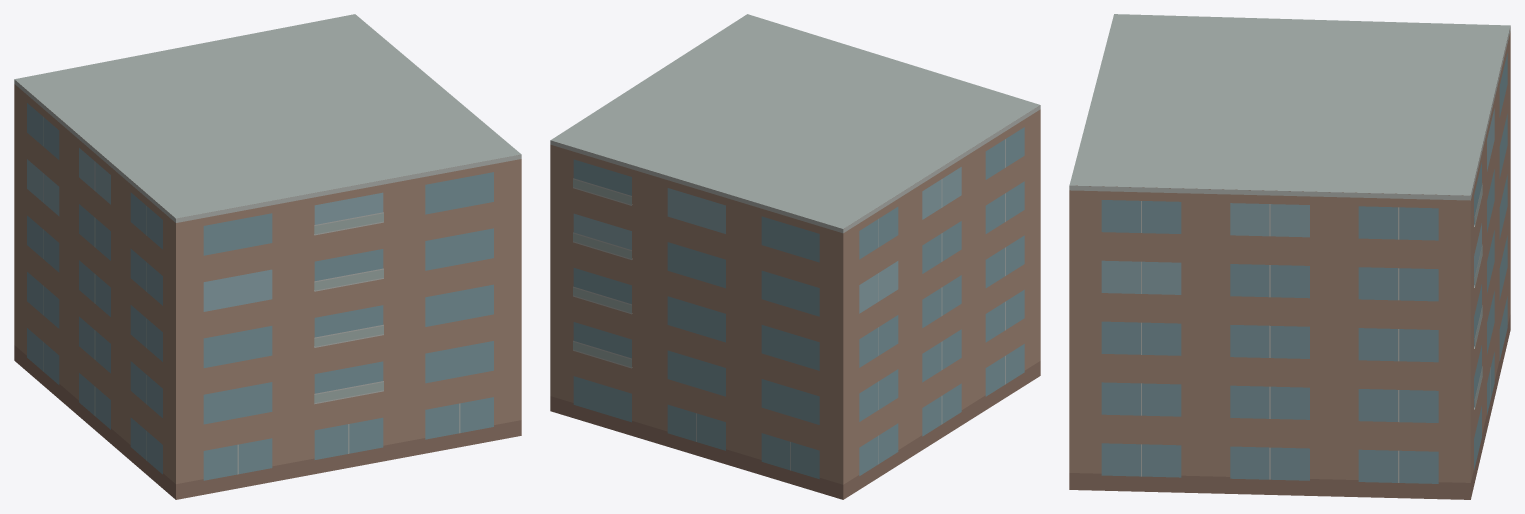
File: survey-upis-32504147.glb
3 views of the same model, side by side, from view 1: azimuth 30°, elevation 25°; view 2: azimuth 150°, elevation 25°; view 3: azimuth 270°, elevation 25° (orthographic). The views are drawn at different scales.
Visible parts, largest first — view 1: survey-upis-32504147.tmp; view 2: survey-upis-32504147.tmp; view 3: survey-upis-32504147.tmp.
Part boxes in pixels (x1=…): survey-upis-32504147.tmp: x1=14, y1=14, x2=521, y2=499; survey-upis-32504147.tmp: x1=550, y1=14, x2=1040, y2=499; survey-upis-32504147.tmp: x1=1069, y1=14, x2=1510, y2=499.
Bounding box in the file's own units: 19.53 × 15.25 × 20.05.
